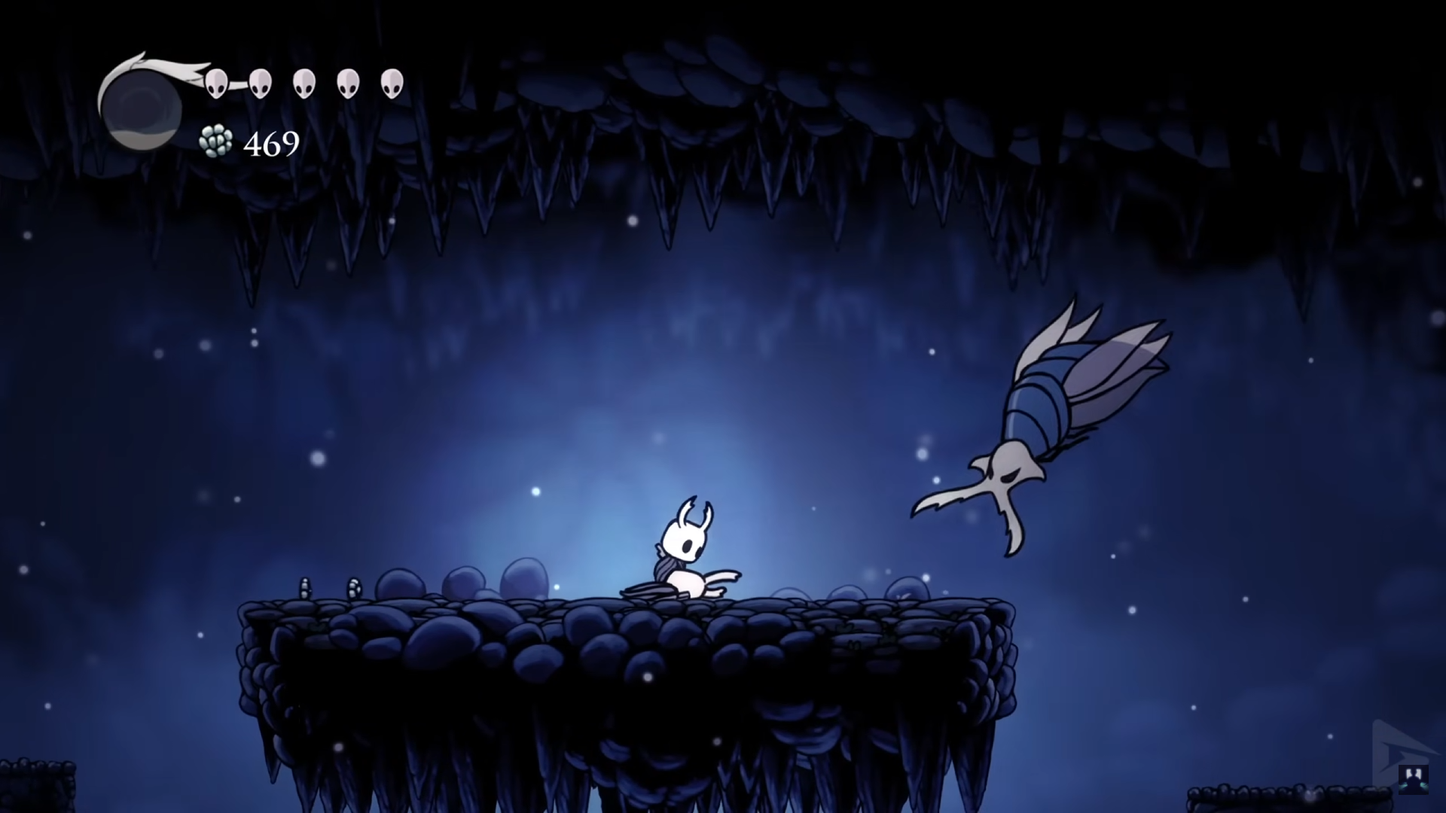HK: (648, 495, 714, 599)
